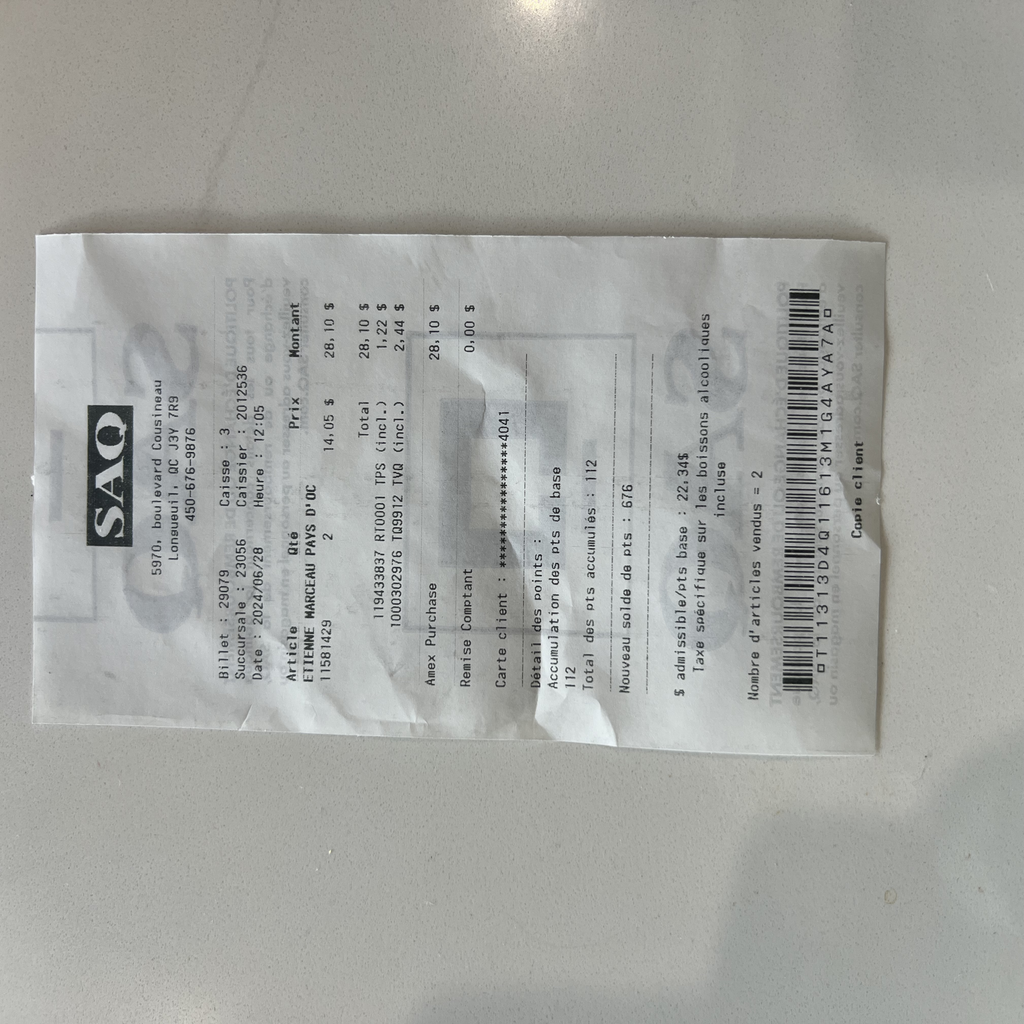recipt: (29, 235, 885, 757)
